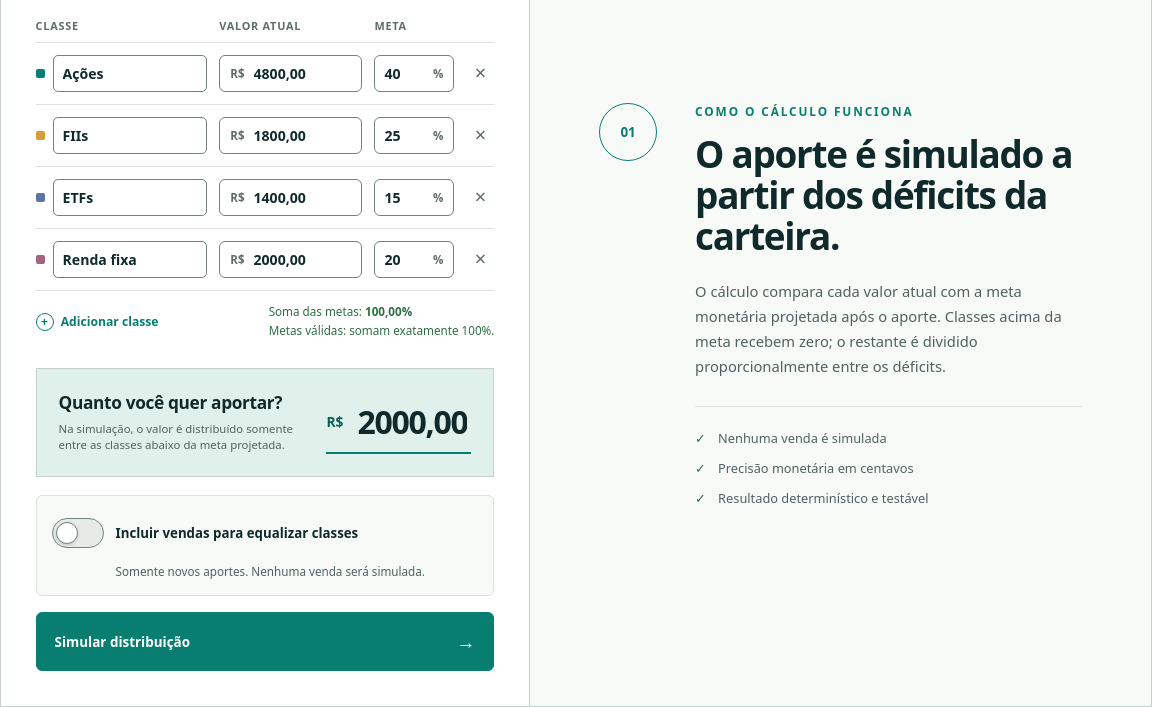
ContributionSimulator › sends normalized decimal strings and presents the calculated plan
The image size is (1152, 707).
(page scrolled)
Click the button "Simular distribuição →" at (122, 642), box x1=36 y1=612 x2=494 y2=671
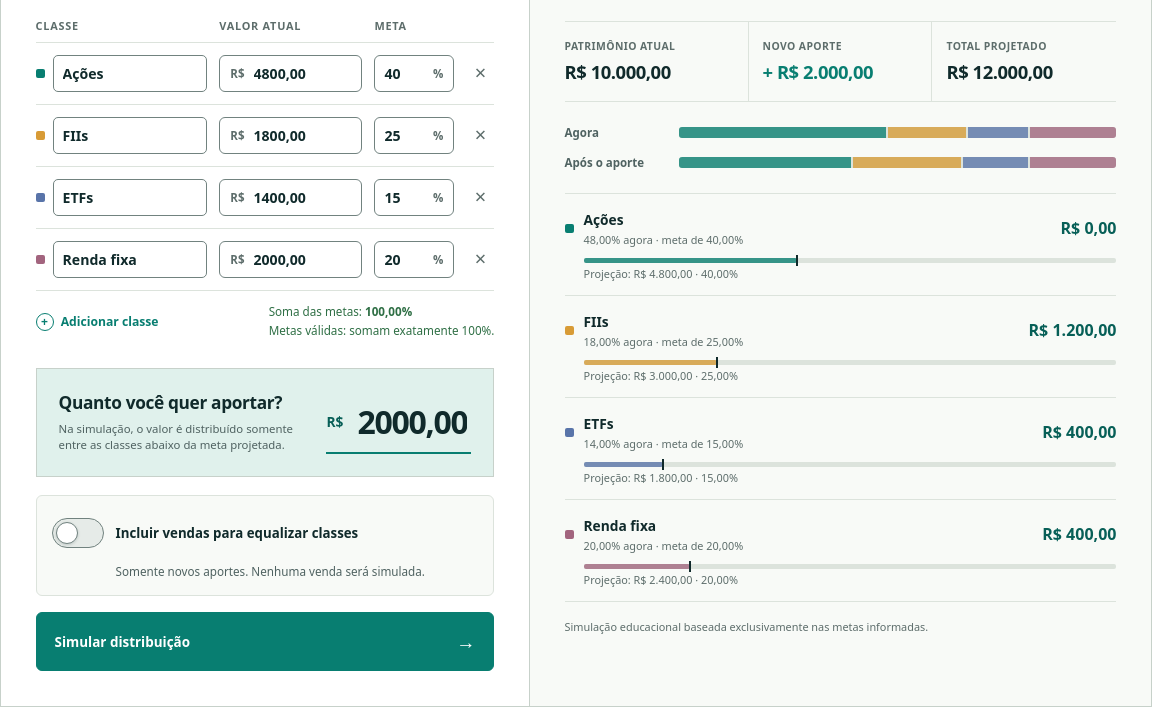
Result: the text "+ R$ 2.000,00" is shown at x1=762 y1=59 x2=873 y2=84
Result: the text "R$ 1.200,00" is shown at x1=1028 y1=319 x2=1116 y2=341
